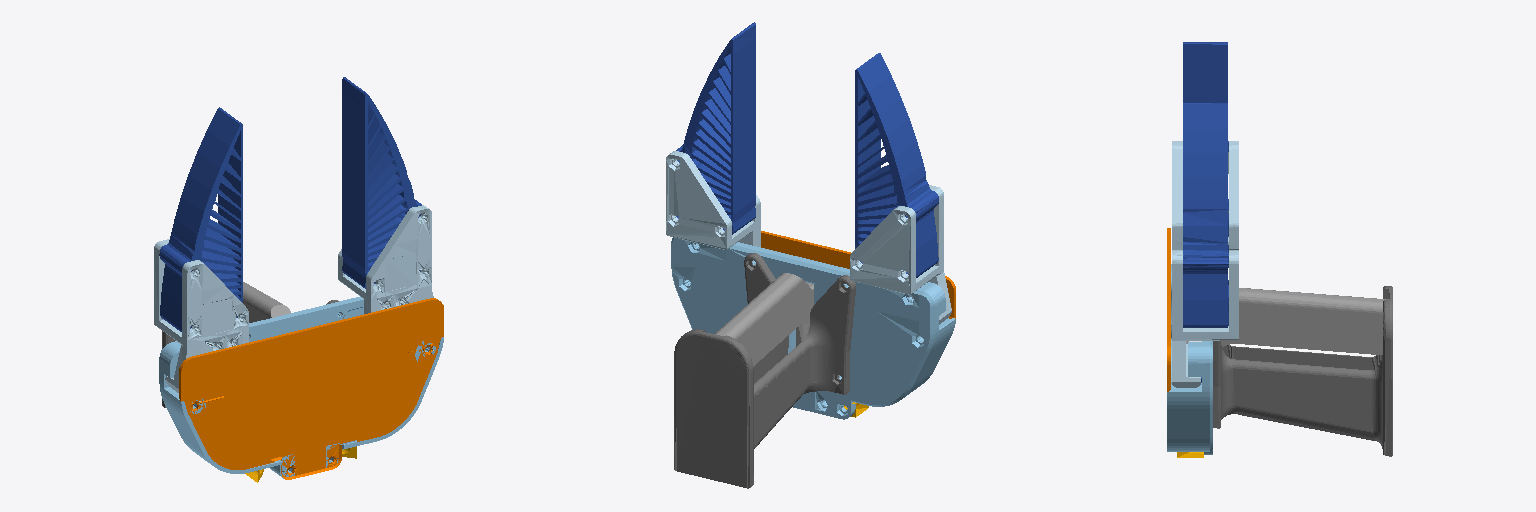
Rendered from simplified_gripper_single.obj.
The picture shows the model from 3 angles: view 1: azimuth 30°, elevation 25°; view 2: azimuth 150°, elevation 25°; view 3: azimuth 270°, elevation 25°; orthographic projection.
Parts seen in each view (by area): view 1: mesh384; view 2: mesh384; view 3: mesh384.
Boxes of the visible parts, x1=… form: mesh384: x1=154, y1=77, x2=443, y2=482; mesh384: x1=666, y1=22, x2=955, y2=488; mesh384: x1=1167, y1=42, x2=1392, y2=457.
Bounding box in the file's own units: 0.172 × 0.2284 × 0.1283.